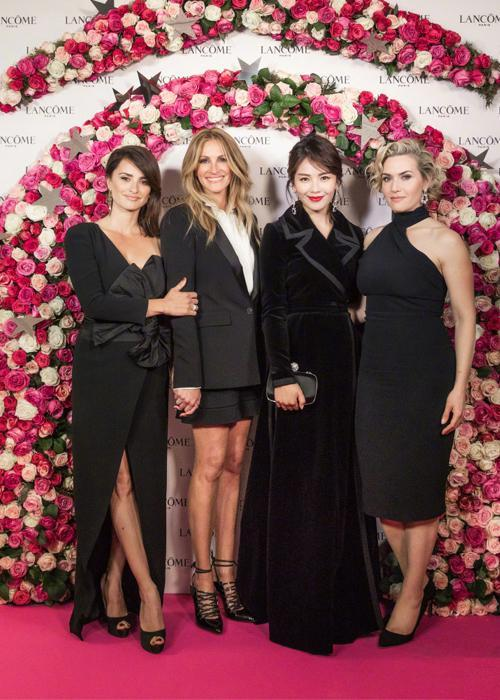other: (345, 113, 481, 651), (260, 133, 389, 661), (60, 144, 187, 654), (158, 110, 278, 641)
